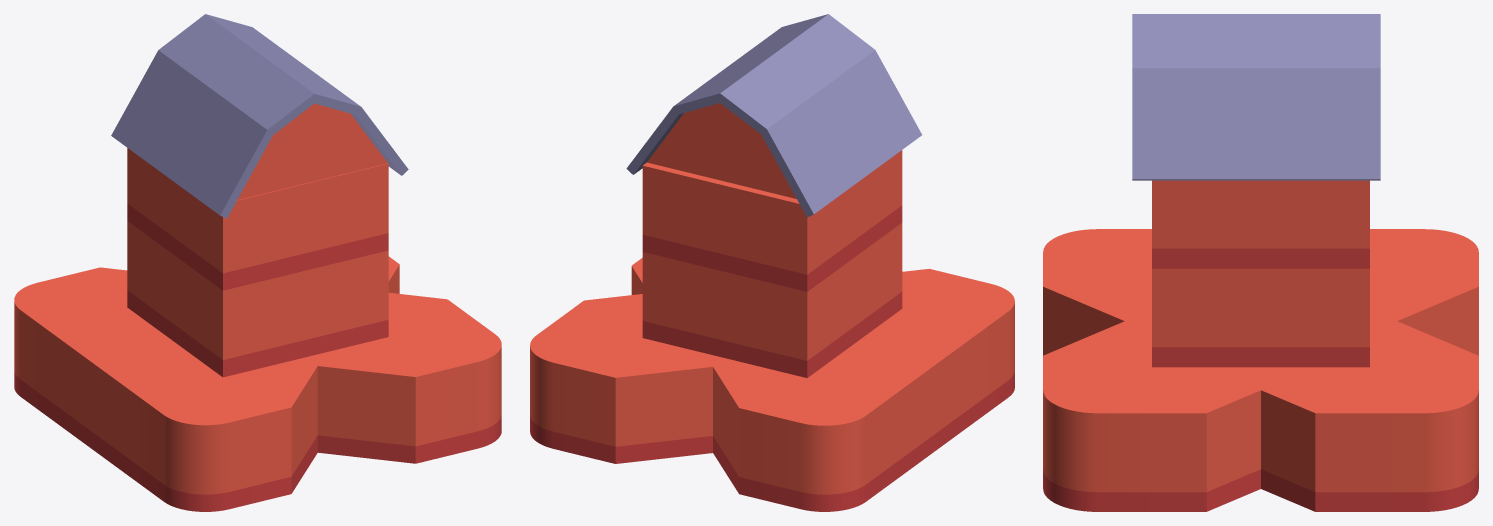
Rendered from test-building-4x4.glb.
The picture shows the model from 3 angles, left to right: view 1: azimuth 30°, elevation 25°; view 2: azimuth 150°, elevation 25°; view 3: azimuth 270°, elevation 25°; orthographic projection. The views are drawn at different scales.
Parts seen in each view (by area): view 1: mergedBlocks(Clone); view 2: mergedBlocks(Clone); view 3: mergedBlocks(Clone).
Part boxes in pixels (box(x1,y1,x2,y2)): mergedBlocks(Clone): box(14, 14, 501, 511); mergedBlocks(Clone): box(530, 14, 1014, 511); mergedBlocks(Clone): box(1043, 14, 1478, 511).
Bounding box in the file's own units: 4 × 4.11 × 4.
